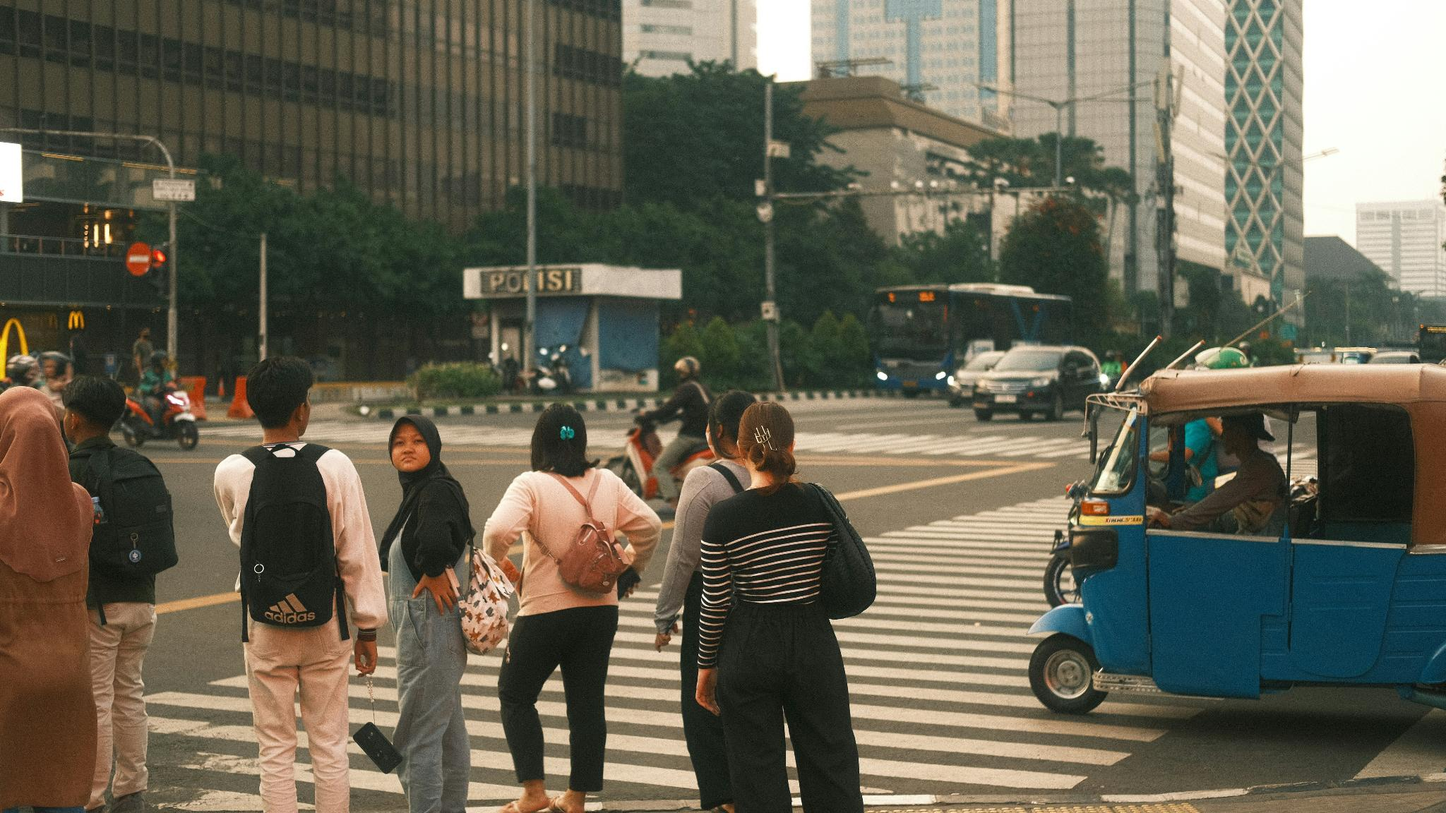car: (972, 346, 1107, 421), (947, 351, 1005, 407)
pedestrian: (214, 356, 387, 813), (483, 403, 660, 813), (692, 405, 863, 813), (62, 377, 173, 813), (0, 387, 97, 813), (380, 415, 474, 813), (654, 390, 756, 683)
